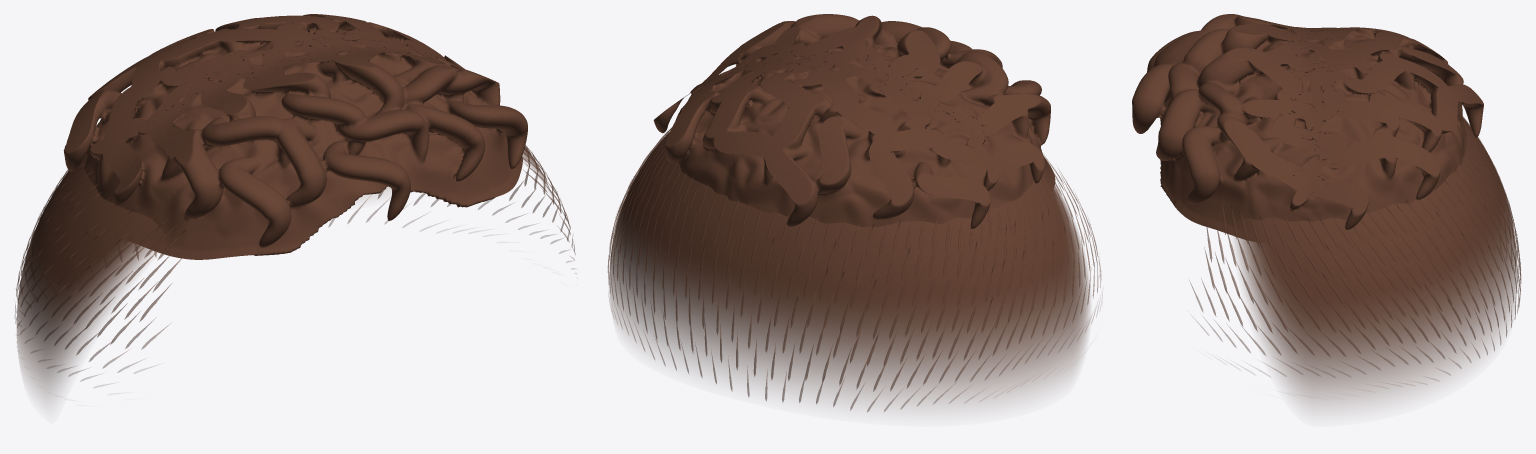
The model's file is Masculine-curly-top-pashmina259-hair.glb.
3 renders of one model, left to right at view 1: azimuth 30°, elevation 25°; view 2: azimuth 150°, elevation 25°; view 3: azimuth 270°, elevation 25°, orthographic. The views are drawn at different scales.
Parts seen in each view (by area): view 1: 226 hair / Hair252 / sculpted curl groups, 226 hair / Hair258 / smooth side fade, 226 hair / Hair259 / directional fade marks214; view 2: 226 hair / Hair258 / smooth side fade, 226 hair / Hair252 / sculpted curl groups, 226 hair / Hair259 / directional fade marks214; view 3: 226 hair / Hair252 / sculpted curl groups, 226 hair / Hair258 / smooth side fade, 226 hair / Hair259 / directional fade marks214.
Part boxes in pixels (<box>): 226 hair / Hair252 / sculpted curl groups: <box>63,14,527,259</box>; 226 hair / Hair258 / smooth side fade: <box>17,147,554,400</box>; 226 hair / Hair259 / directional fade marks214: <box>15,139,576,387</box>; 226 hair / Hair258 / smooth side fade: <box>609,132,1089,406</box>; 226 hair / Hair252 / sculpted curl groups: <box>653,14,1055,228</box>; 226 hair / Hair259 / directional fade marks214: <box>608,127,1102,411</box>; 226 hair / Hair252 / sculpted curl groups: <box>1132,14,1483,241</box>; 226 hair / Hair258 / smooth side fade: <box>1233,118,1517,408</box>; 226 hair / Hair259 / directional fade marks214: <box>1190,116,1521,384</box>.
Size of the model in its own units: 0.9743 by 0.6388 by 0.7572.
